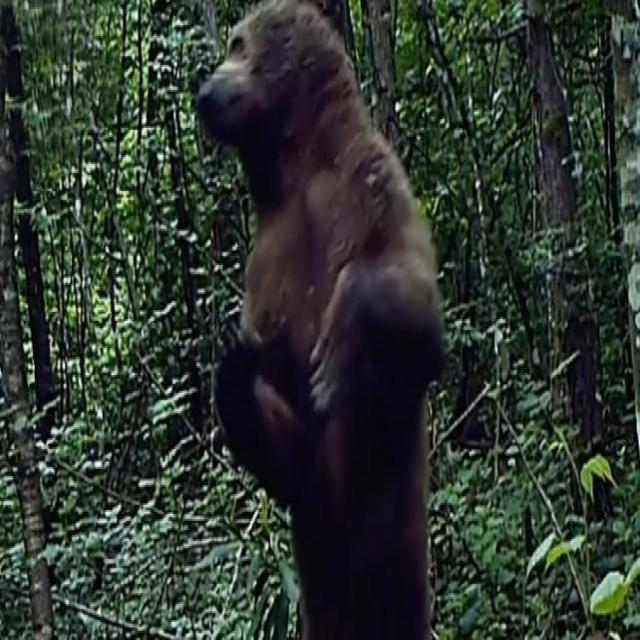Bear: (194, 0, 447, 640)
